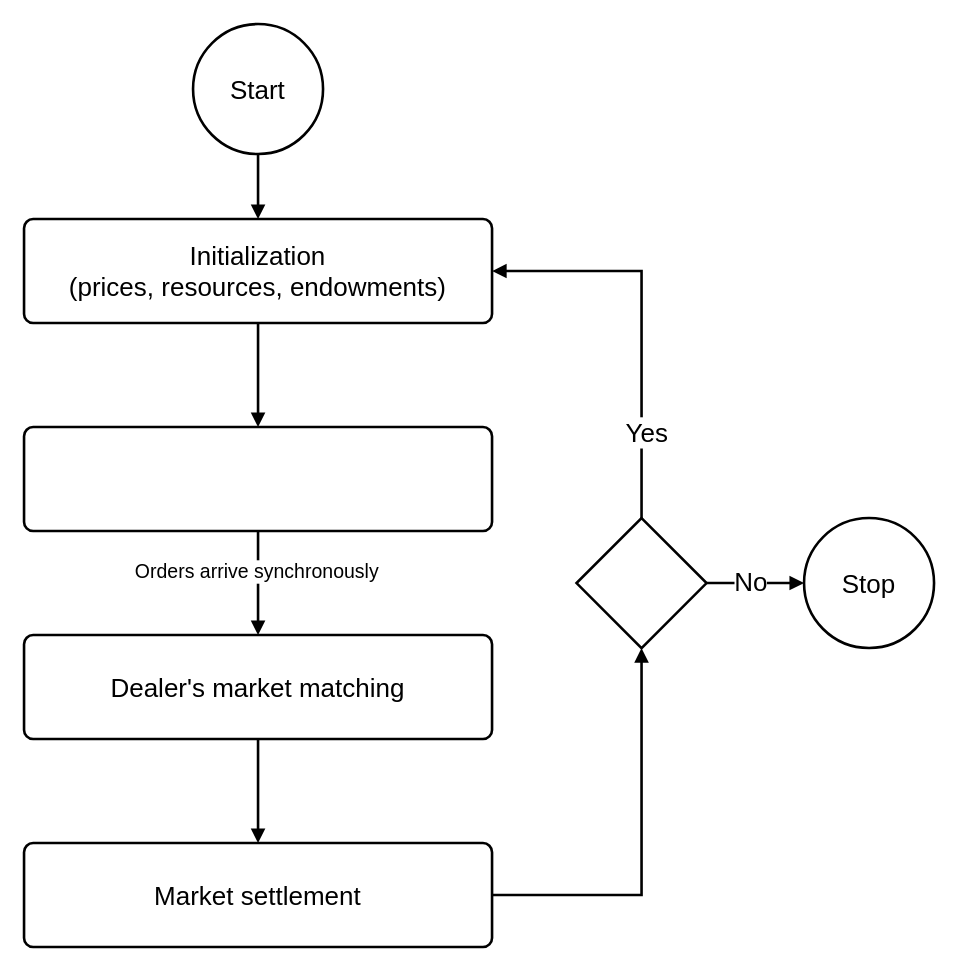
Some shapes in this 957 by 970 pixel diagram are drawn without their labels. Here are the shapes that lost their labels. From the top down, the box of each, then its label:
(22, 425, 493, 532): Agent's bundle determination
(575, 516, 707, 649): Price change?
